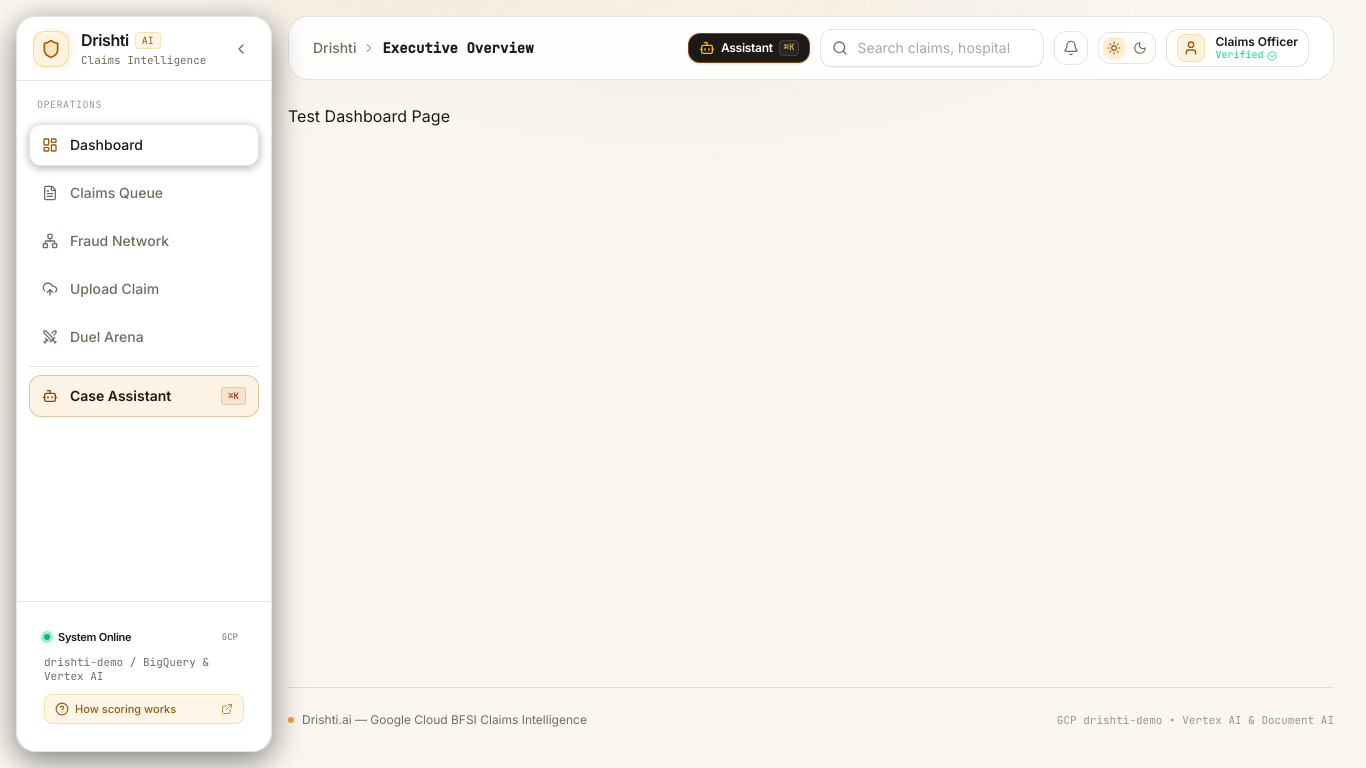
Test: Stage 3: AppShell & Nexa Layout Suite › verifies Fix 4: logo mark is completely unclipped, centered, and toggle accessible when sidebar is collapsed
expect the element showing "Drishti AI Claims Intelligence" is shown: met, box x1=17 y1=17 x2=271 y2=81
expect the text "Drishti" is shown: met, box x1=81 y1=28 x2=129 y2=52
Collapse the sidebar
Click the button named "Collapse sidebar" at (241, 48), box x1=227 y1=34 x2=255 y2=62
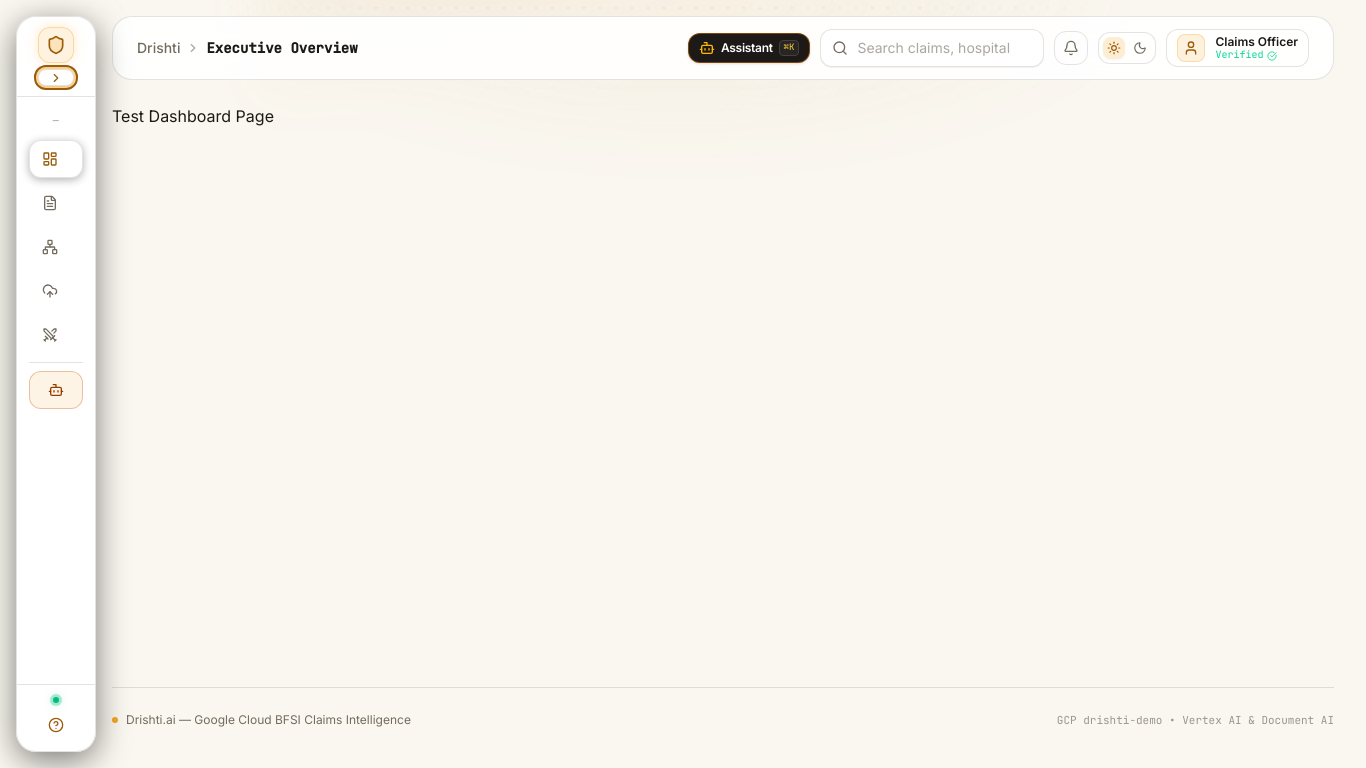
expect the button named "Expand sidebar" is shown: met
Click expand restores state
Click the button named "Expand sidebar" at (56, 78), box x1=38 y1=69 x2=74 y2=86
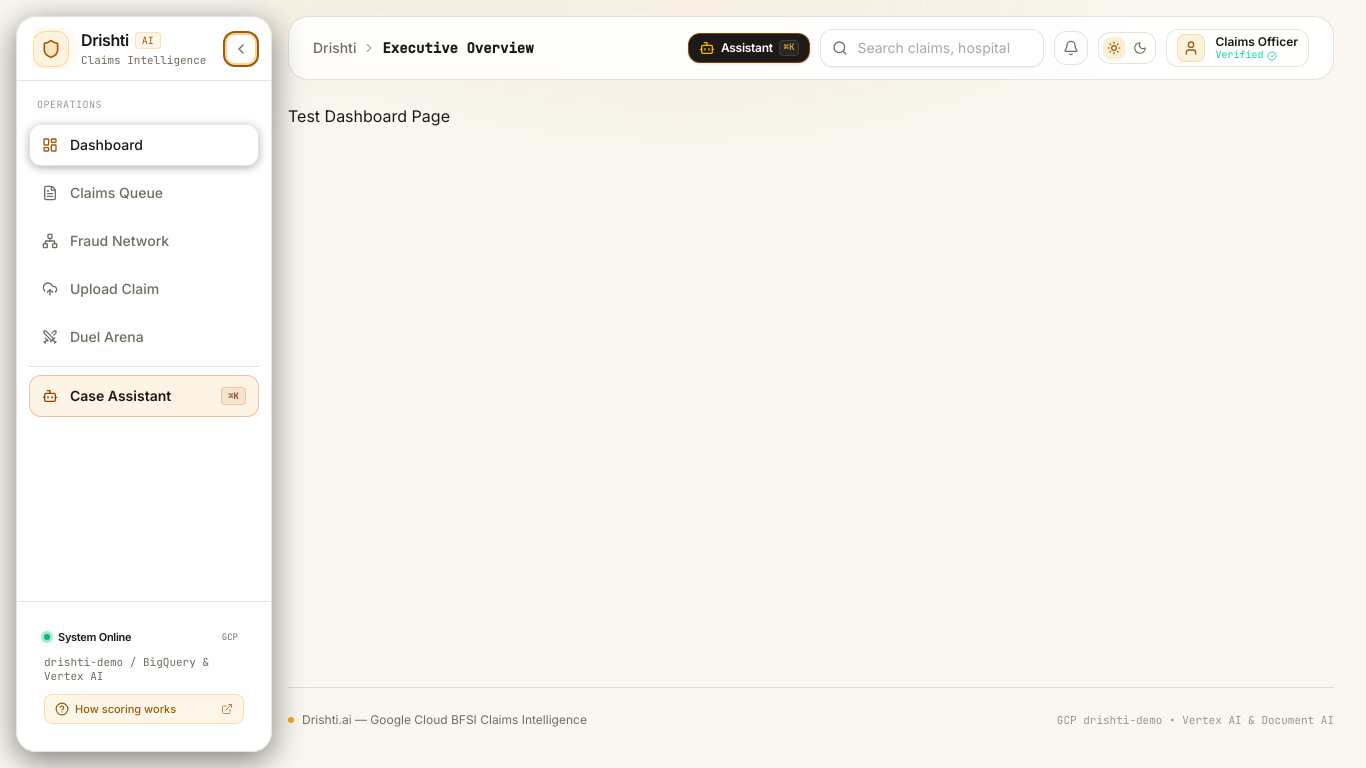
expect the text "Claims Intelligence" is shown: met, box x1=81 y1=52 x2=206 y2=69
